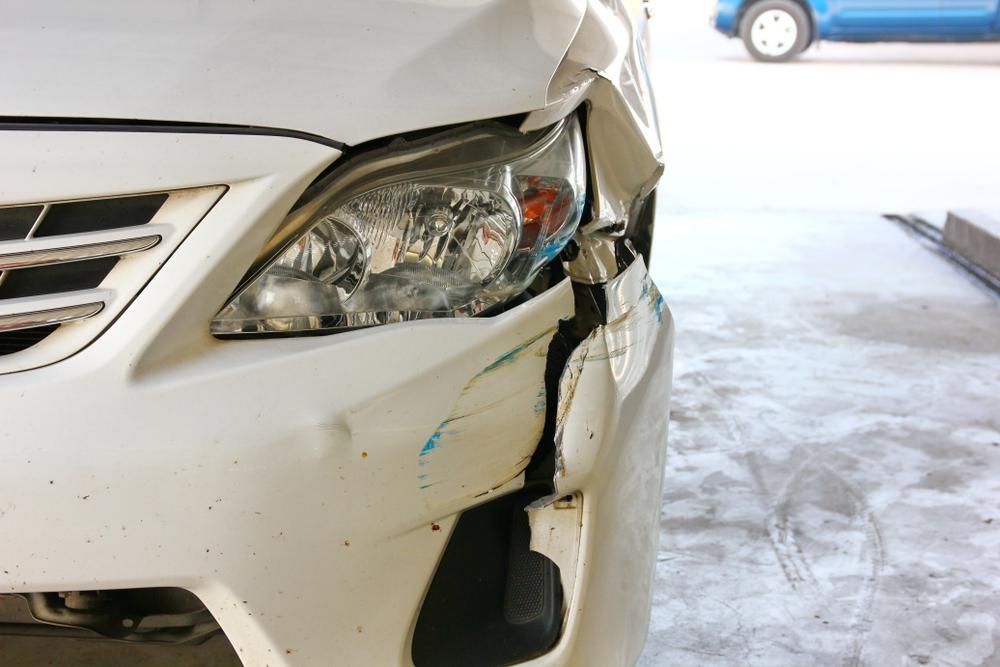crack: (525, 279, 608, 487)
dent: (573, 68, 655, 221)
scratch: (413, 323, 559, 518), (556, 255, 668, 475)
